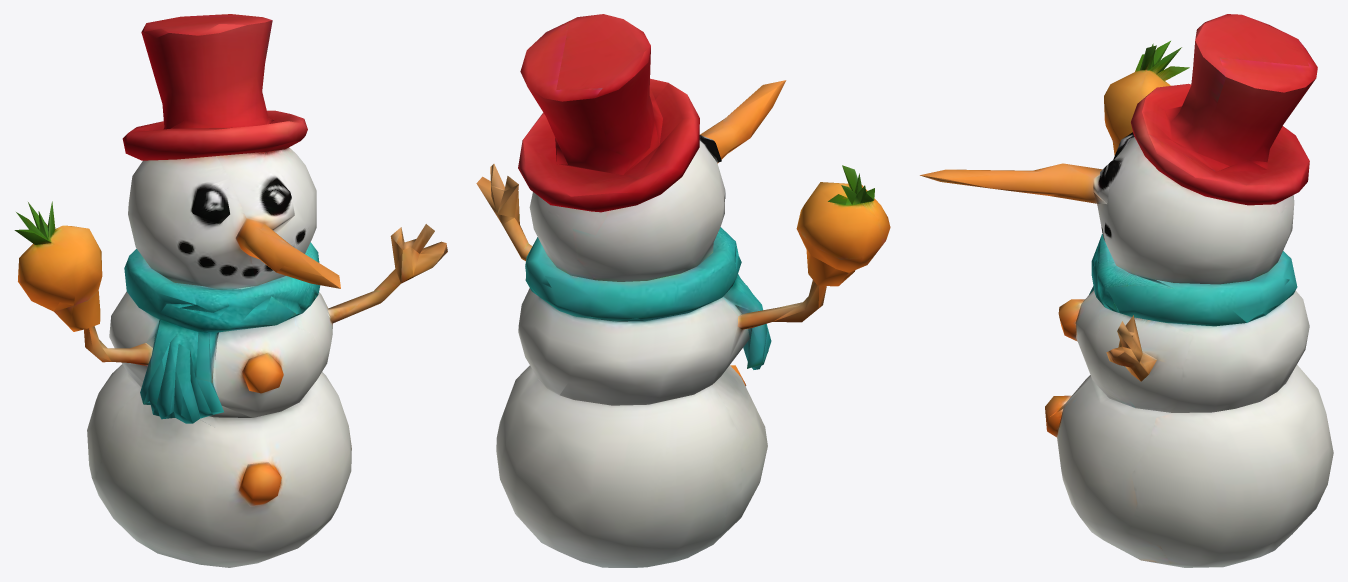
Rendered from snowman.glb.
3 renders of one model, left to right at view 1: azimuth 30°, elevation 25°; view 2: azimuth 150°, elevation 25°; view 3: azimuth 270°, elevation 25°, orthographic. The views are drawn at different scales.
Visible parts, largest first — view 1: model; view 2: model; view 3: model.
Boxes of the visible parts, x1,y1,x2,y2 form: model: (14,14,447,567); model: (476,14,890,567); model: (920,14,1333,567).
Bounding box in the file's own units: 1.58 × 1.9 × 1.36.
1 material, 1 textured.
